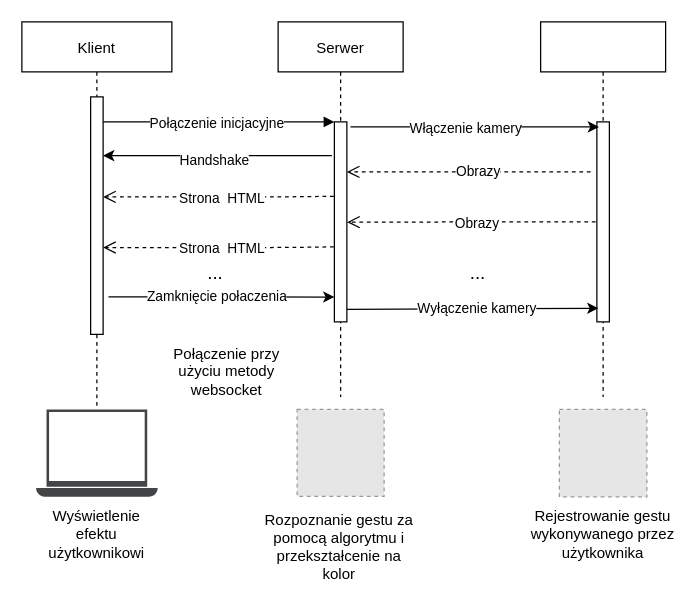
Image size: 700x605. Some labels were removed from this diagram. Grey dashed boxes stand in for pictures. The shapes that lost their labels are listed below. From the top down, each one's box as (x1, y1, x2, y2) in pixels, then its label:
(539, 21, 666, 397): Kamera
(36, 409, 157, 496): Localhost
